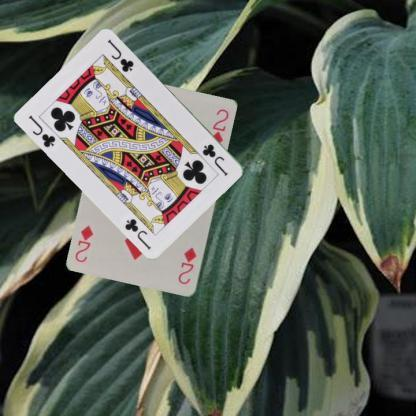2d: (176, 245, 198, 286)
Jc: (26, 112, 57, 150), (200, 141, 229, 177)
